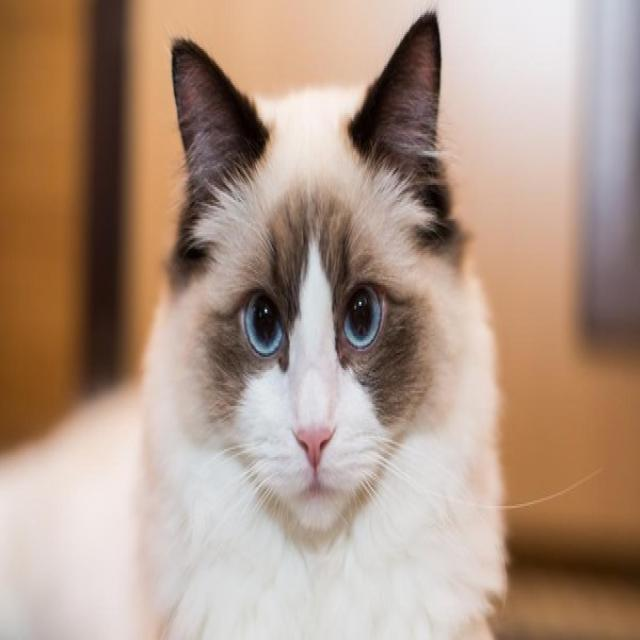animal: (127, 26, 506, 589)
